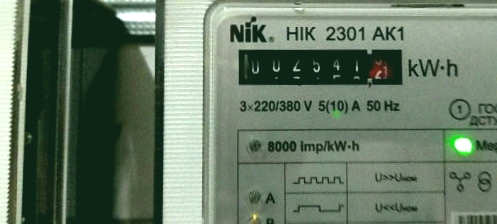0: (269, 51, 282, 73), (248, 53, 261, 74)
1: (350, 50, 362, 73)
2: (289, 51, 304, 73)
4: (330, 50, 342, 71)
5: (309, 51, 323, 74)
6: (372, 66, 383, 78)
screen: (225, 37, 415, 93)
